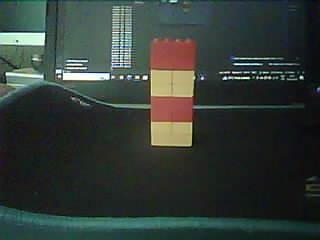lego: (150, 35, 197, 147)
